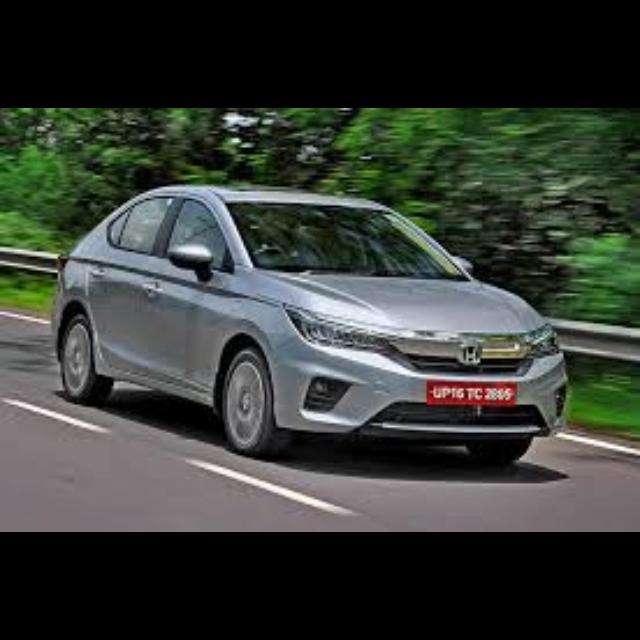vehicles: (38, 182, 570, 470)
